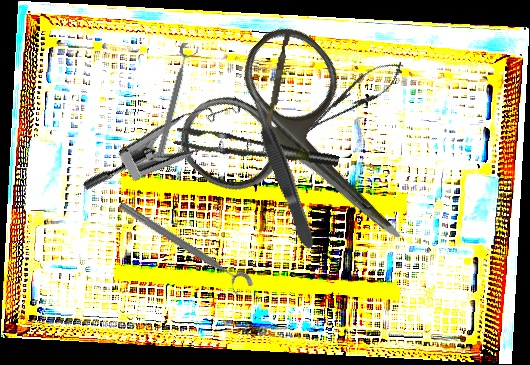Fixation Ring: (111, 197, 257, 302), (153, 41, 201, 160)
Iris Scissors: (165, 13, 458, 303)
Needle Holder: (296, 52, 410, 143)
Pusher: (260, 29, 292, 154)
Speculum: (79, 70, 269, 248)
Tissue Forceps: (173, 111, 340, 189), (246, 93, 319, 253)
